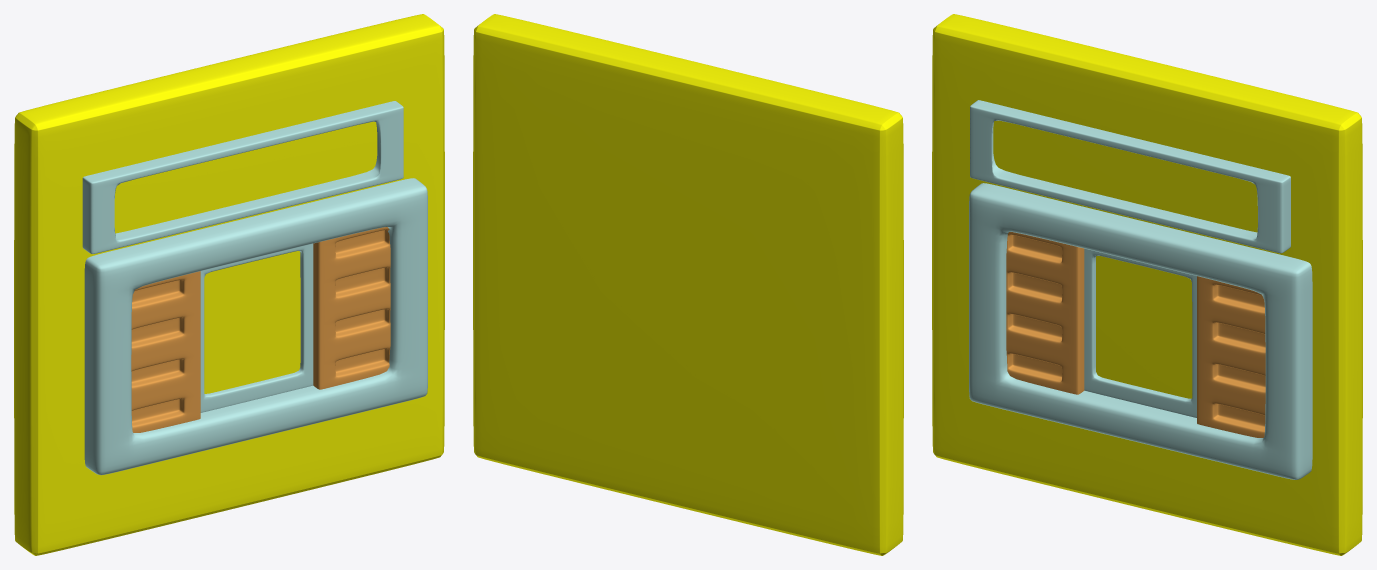
3 views of the same model, side by side, from view 1: azimuth 30°, elevation 25°; view 2: azimuth 150°, elevation 25°; view 3: azimuth 330°, elevation 25° (orthographic).
Visible parts, largest first — view 1: polySurface1133; view 2: polySurface1133; view 3: polySurface1133.
Part boxes in pixels (x1,y1,x2,y2): polySurface1133: (14, 14, 444, 555); polySurface1133: (473, 14, 903, 555); polySurface1133: (932, 14, 1362, 555).
Bounding box in the file's own units: 0.9995 × 0.9995 × 0.1579.
